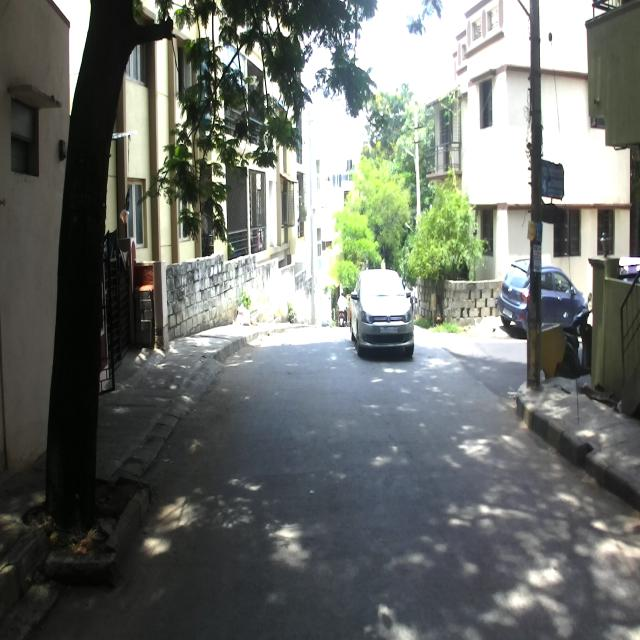car ahead at: (352, 267, 417, 365)
electric pole ahead at: (515, 0, 549, 396)
tree ahead at: (47, 0, 131, 515)
